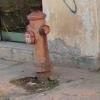a fire hydrant: (23, 9, 56, 75)
